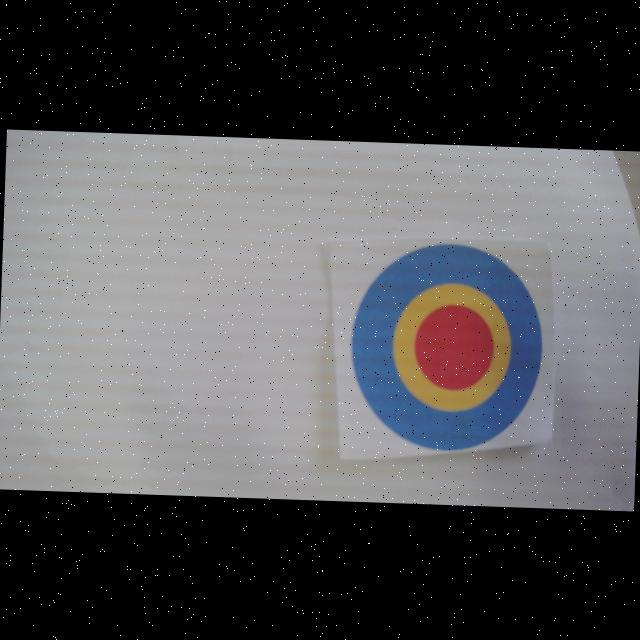COGNITIVE: (347, 239, 547, 454)
